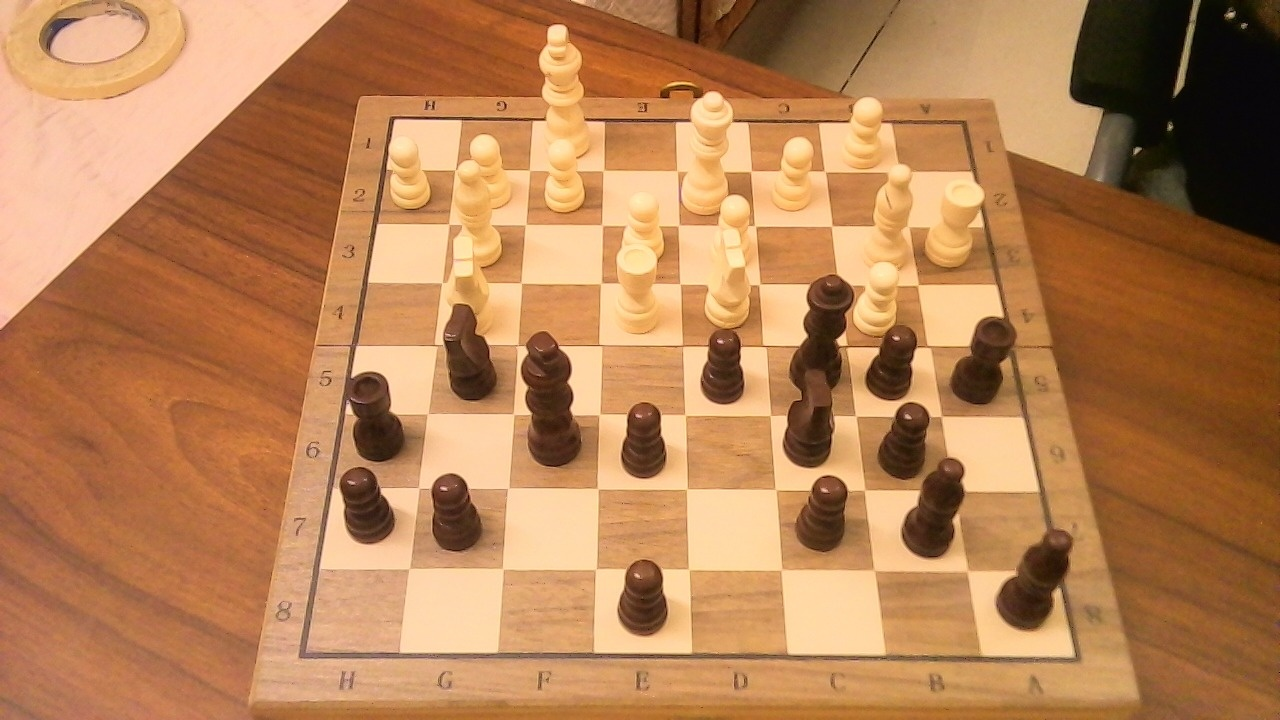B: (448, 148, 513, 270), (863, 153, 922, 274)
K: (534, 13, 598, 161)
N: (692, 238, 759, 328), (454, 232, 498, 314)
P: (610, 181, 671, 279), (764, 127, 823, 216), (459, 126, 518, 213), (535, 129, 591, 216), (833, 88, 891, 171), (382, 129, 437, 211), (857, 252, 907, 340), (708, 187, 758, 268)
Q: (680, 78, 743, 221)
R: (921, 170, 990, 273), (606, 232, 669, 340)
b: (995, 515, 1085, 631), (922, 445, 979, 564)
k: (517, 321, 595, 468)
n: (434, 289, 508, 404), (777, 386, 855, 471)
p: (332, 456, 405, 547), (789, 463, 859, 555), (610, 548, 679, 640), (691, 317, 758, 408), (860, 314, 928, 403), (880, 400, 942, 480), (618, 400, 670, 478), (432, 473, 482, 552)
q: (778, 261, 861, 393)
r: (945, 302, 1026, 408), (342, 359, 415, 464)
